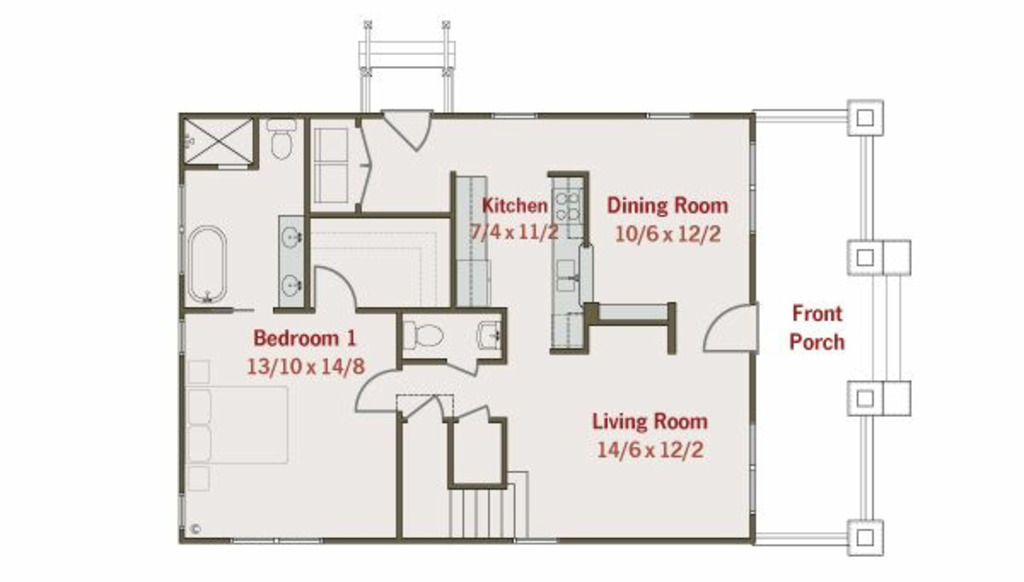door: (696, 302, 759, 353), (378, 109, 435, 157), (352, 369, 400, 413), (312, 265, 356, 310), (406, 396, 446, 418), (447, 360, 479, 380), (458, 407, 492, 421)
kitchen_bar: (550, 170, 589, 254)
large_sink: (395, 312, 451, 359), (262, 114, 303, 167)
small_sink: (276, 265, 307, 308), (475, 315, 504, 359), (279, 209, 308, 251)
small_sofa: (313, 162, 352, 204), (316, 122, 349, 164)
stairs: (443, 467, 529, 537)
tub: (189, 217, 227, 306)
twin_sink: (551, 255, 578, 312)
window: (224, 534, 314, 544), (747, 418, 756, 508), (748, 144, 756, 240), (176, 184, 184, 269)
